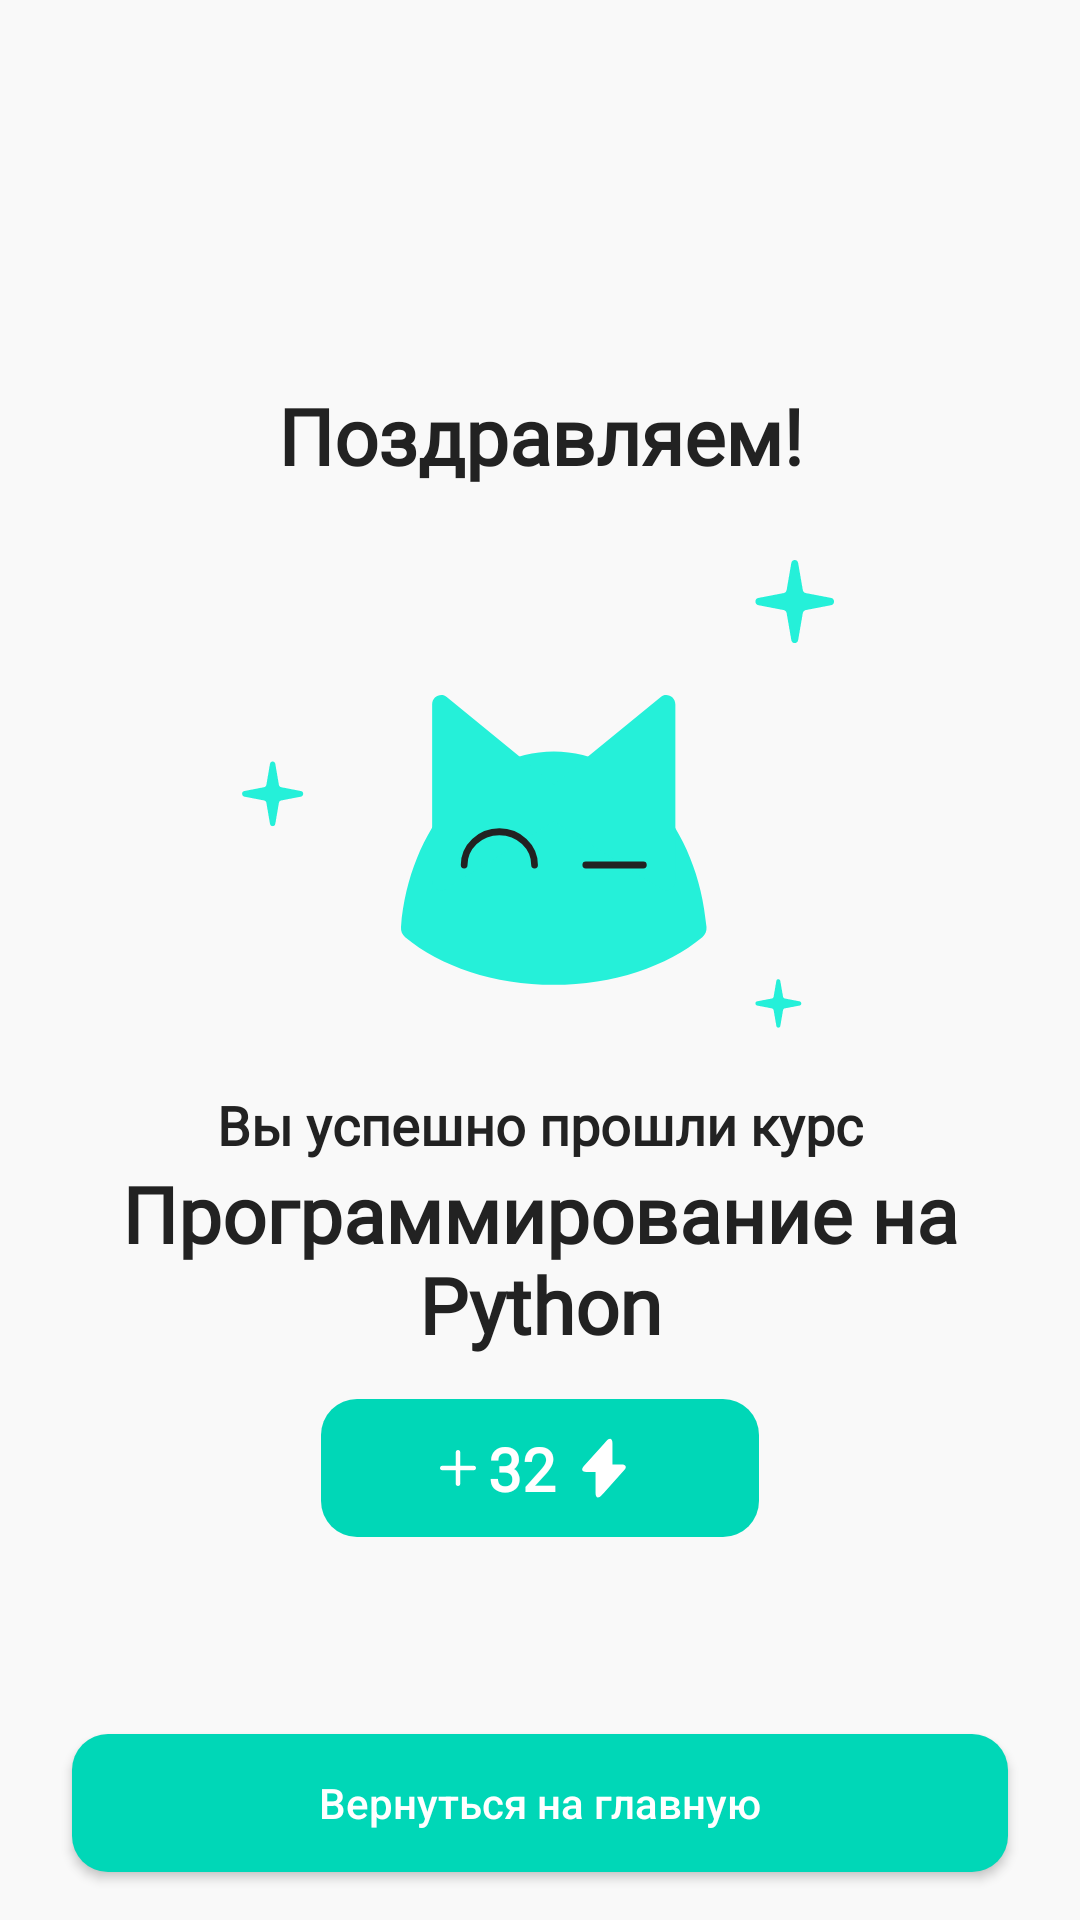

Icons on this 1080x1920 Android screen, each with the point to tap as (x=x, y=y):
lightning: (x=604, y=1468)
plus: (x=458, y=1468)
